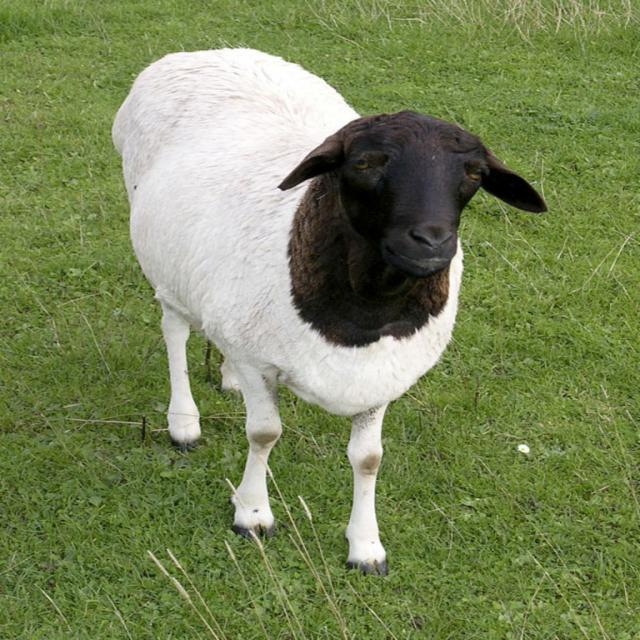Goat: (110, 45, 549, 577)
